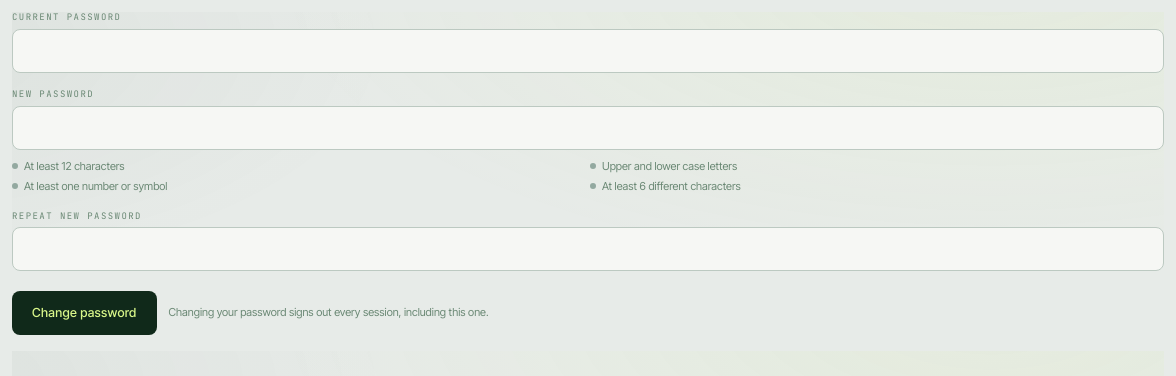
Test: password change form › rejects reusing the current password
Step 1. Type "StrongPass!2345" into the password field labelled "Current password" → x=588, y=51, box [12, 29, 1164, 73]
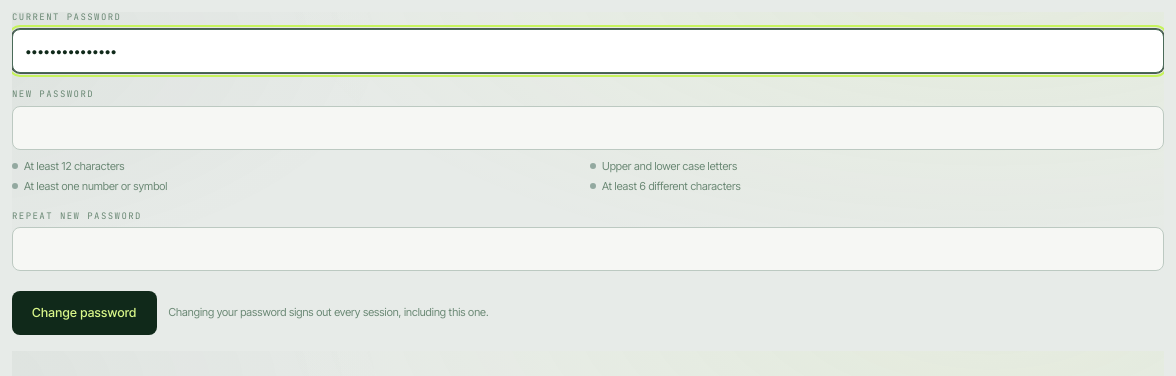
Step 2. Type "StrongPass!2345" into the password field labelled "New password" → x=588, y=128, box [12, 106, 1164, 150]
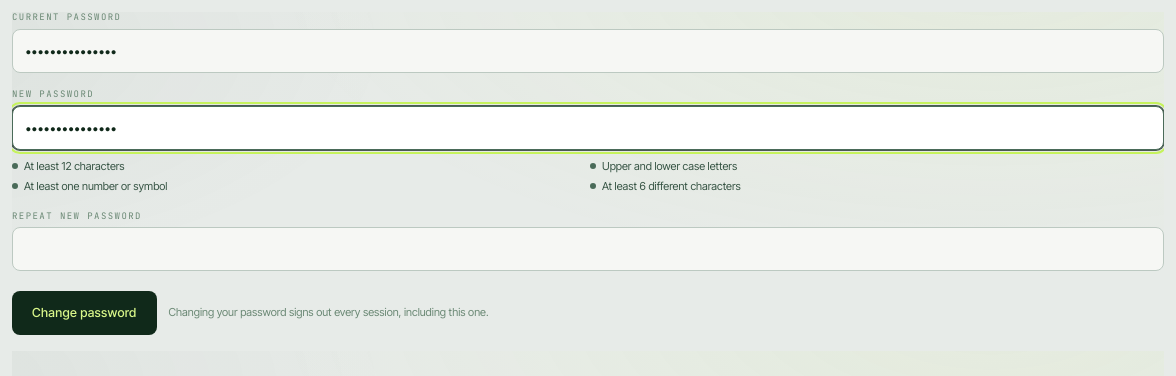
Step 3. Type "StrongPass!2345" into the password field labelled "Repeat new password" → x=588, y=249, box [12, 227, 1164, 271]
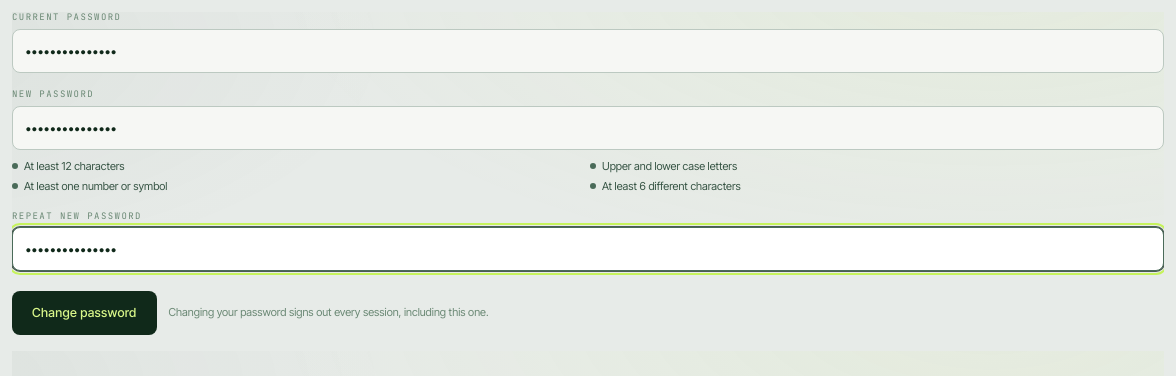
Step 4. Click the button "Change password" → x=84, y=313, box [12, 291, 157, 335]
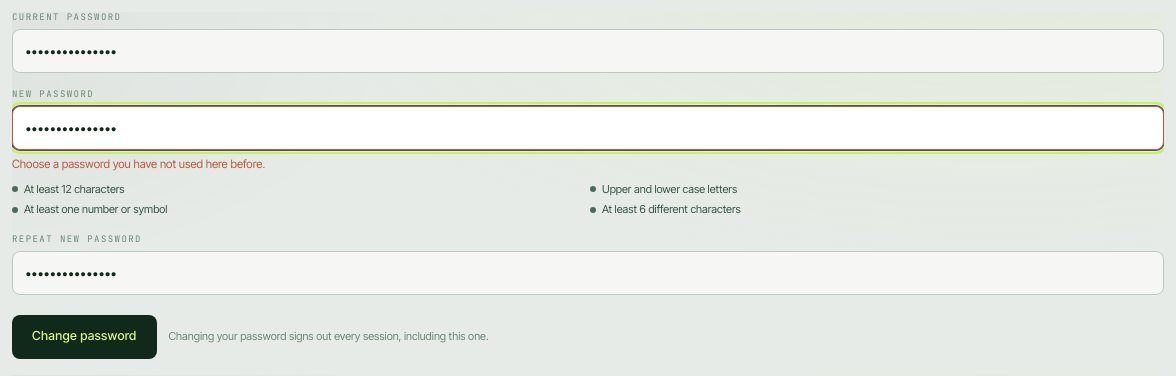
Check: the text "Choose a password you have not used here before." is shown, box [12, 157, 265, 171]
